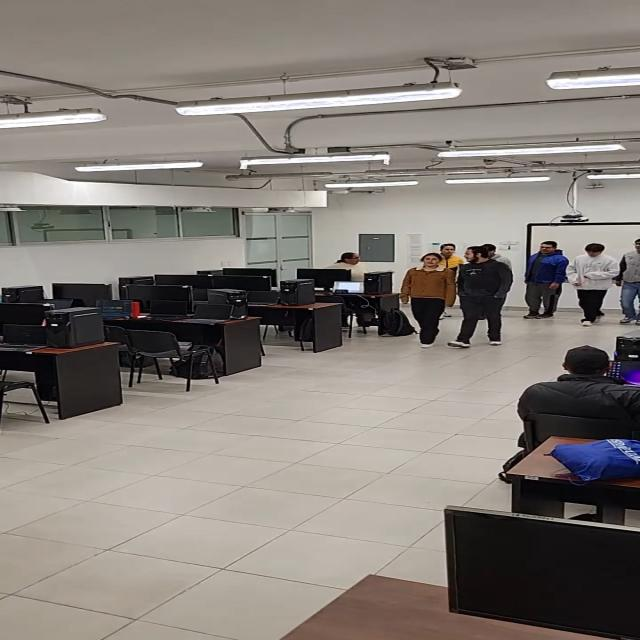Persona: (457, 246, 512, 349), (403, 253, 455, 349), (569, 241, 619, 327), (523, 239, 567, 321), (618, 237, 640, 325)
